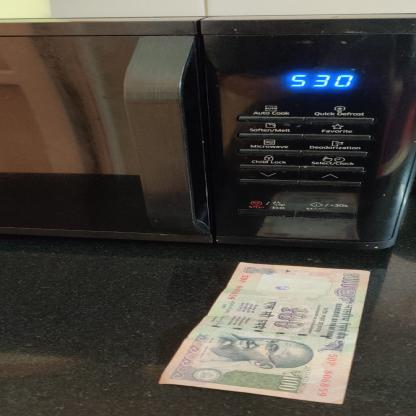Old100Front: (159, 262, 372, 405)
